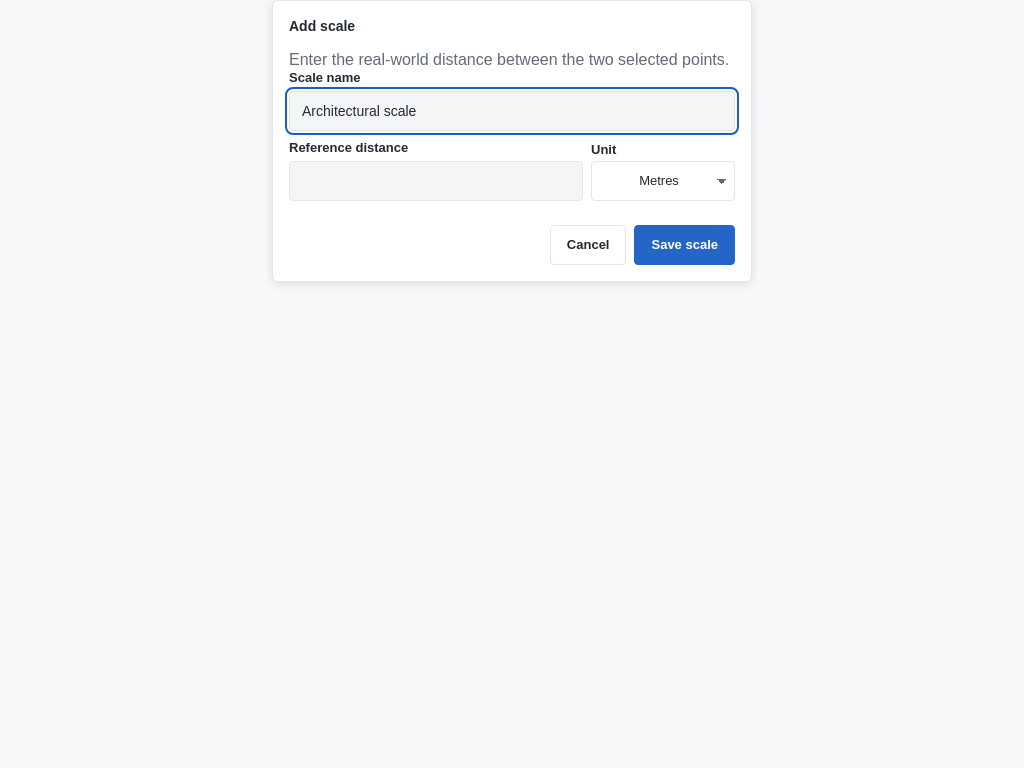
Test: CalibrationDialog › uses structured Feet, Inches, and Fractional inches controls instead of architectural text
Select "Feet & inches" in the dropdown named "Calibration unit" at [663, 181], box 591,161 -> 735,201
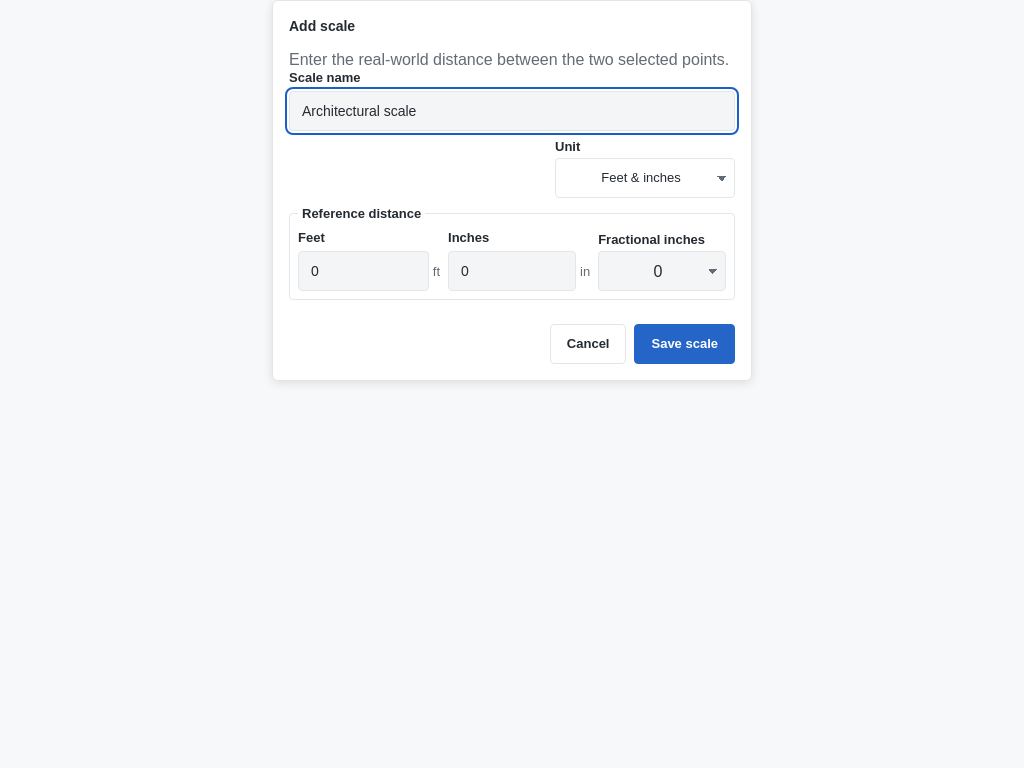
Result: the label with id "calibration-distance" is gone
